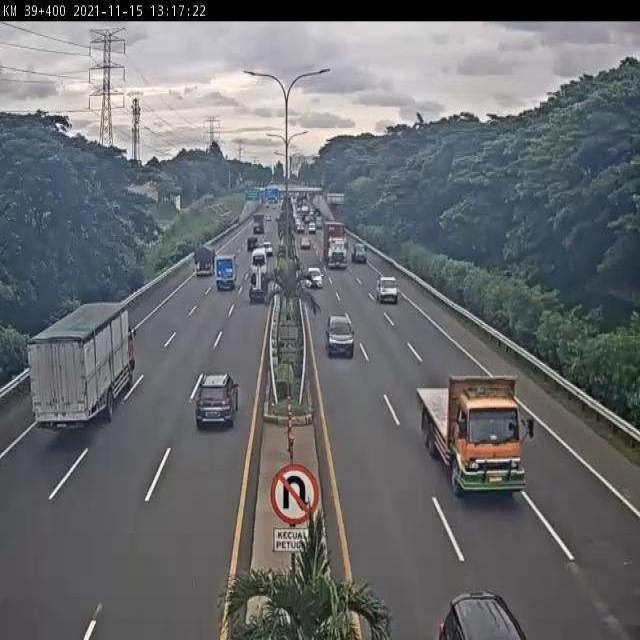car: (191, 369, 242, 431), (326, 312, 356, 361), (304, 265, 325, 292)
truck-l-: (412, 357, 529, 500)
truck-m-: (32, 300, 138, 435)
truck-s-: (192, 240, 221, 281), (212, 251, 238, 296), (247, 266, 275, 306), (374, 272, 401, 308), (351, 238, 370, 266)
truck-xl-: (324, 217, 350, 271)
